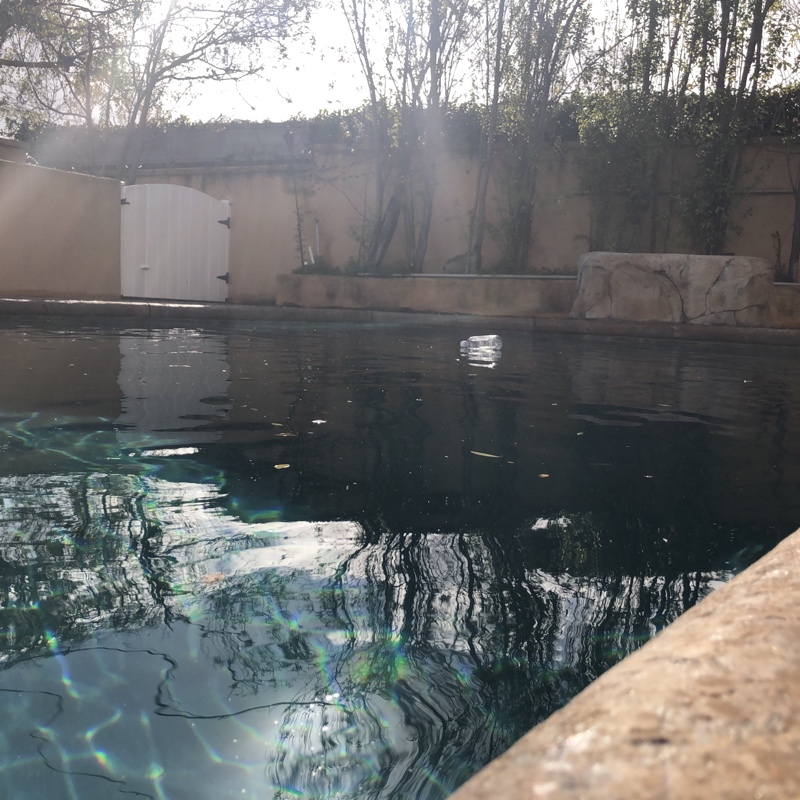Plastic Bottle: (457, 330, 503, 350)
